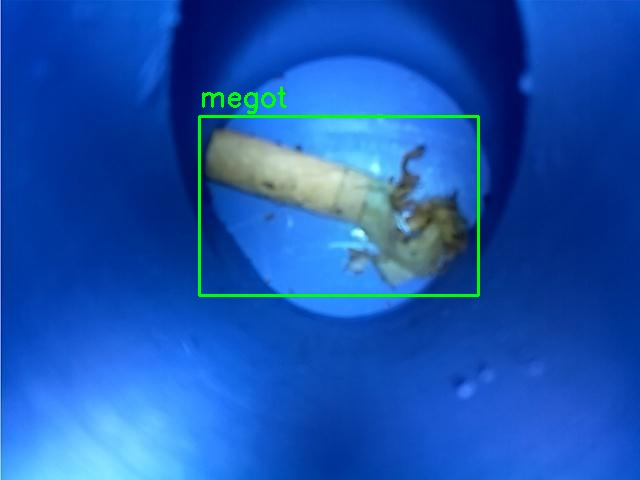megot: (199, 116, 478, 295)
